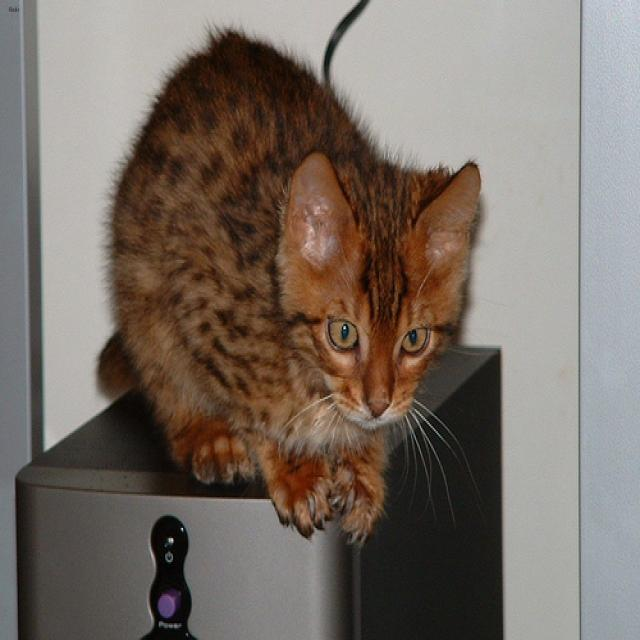Bengal: (274, 141, 485, 438)
